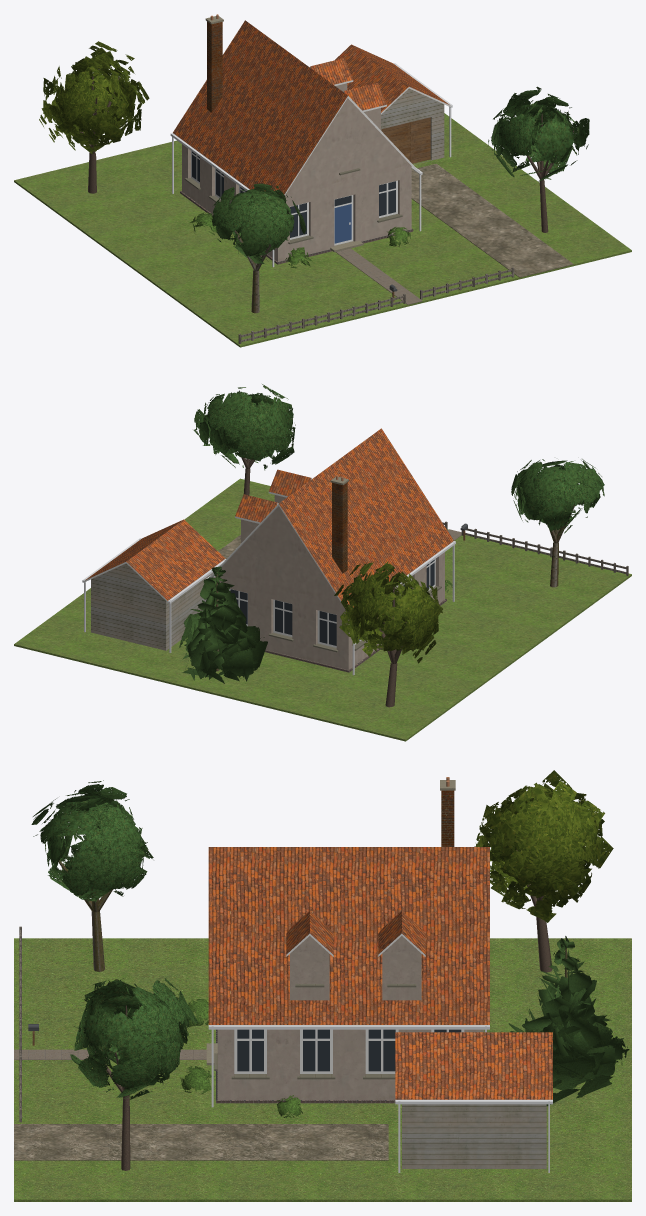
File: house_cottage.glb
The picture shows the model from 3 angles, top to bottom: view 1: azimuth 30°, elevation 25°; view 2: azimuth 150°, elevation 25°; view 3: azimuth 270°, elevation 25°; orthographic projection. The views are drawn at different scales.
Visible parts, largest first — view 1: house_cottage_body, house_cottage_foliage; view 2: house_cottage_body, house_cottage_foliage; view 3: house_cottage_body, house_cottage_foliage.
Part boxes in pixels (bbox=[...]): house_cottage_body: bbox=[14, 14, 631, 347]; house_cottage_foliage: bbox=[39, 41, 589, 268]; house_cottage_body: bbox=[14, 428, 631, 741]; house_cottage_foliage: bbox=[179, 384, 604, 683]; house_cottage_body: bbox=[14, 777, 631, 1201]; house_cottage_foliage: bbox=[31, 770, 629, 1117].
Size of the model in its own units: 0.94 by 0.421 by 0.94.
27 materials, 18 textured.
